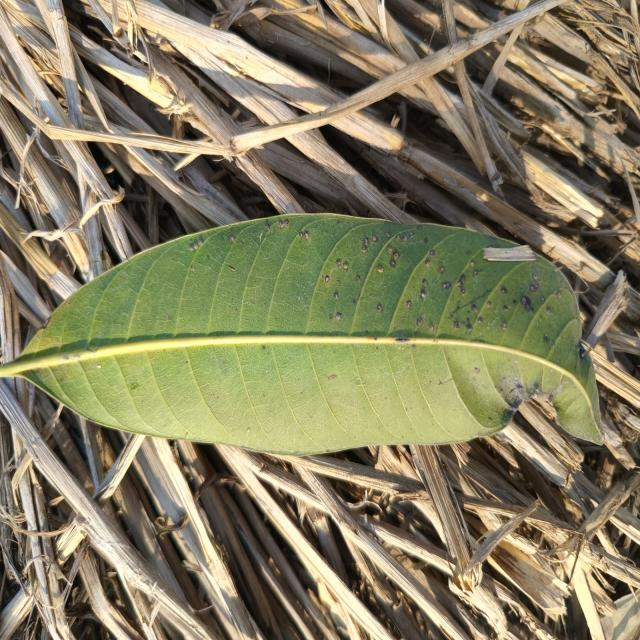gall midge: (348, 248, 461, 303), (504, 272, 543, 326)
